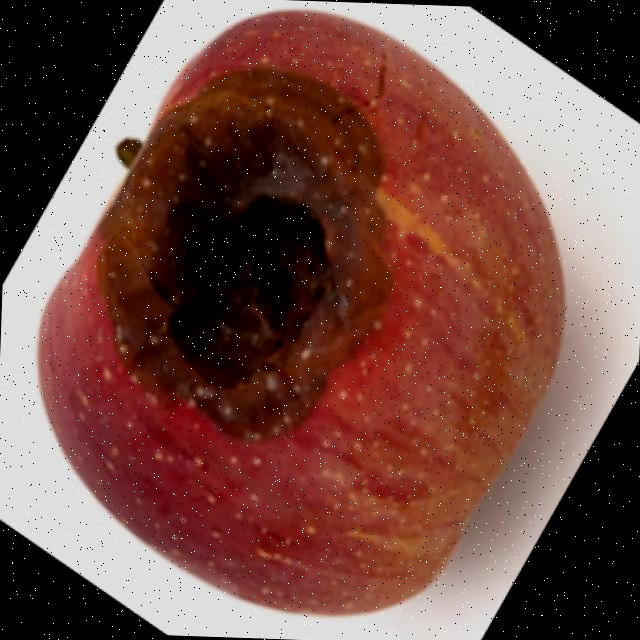Rotten: (16, 0, 581, 626)
